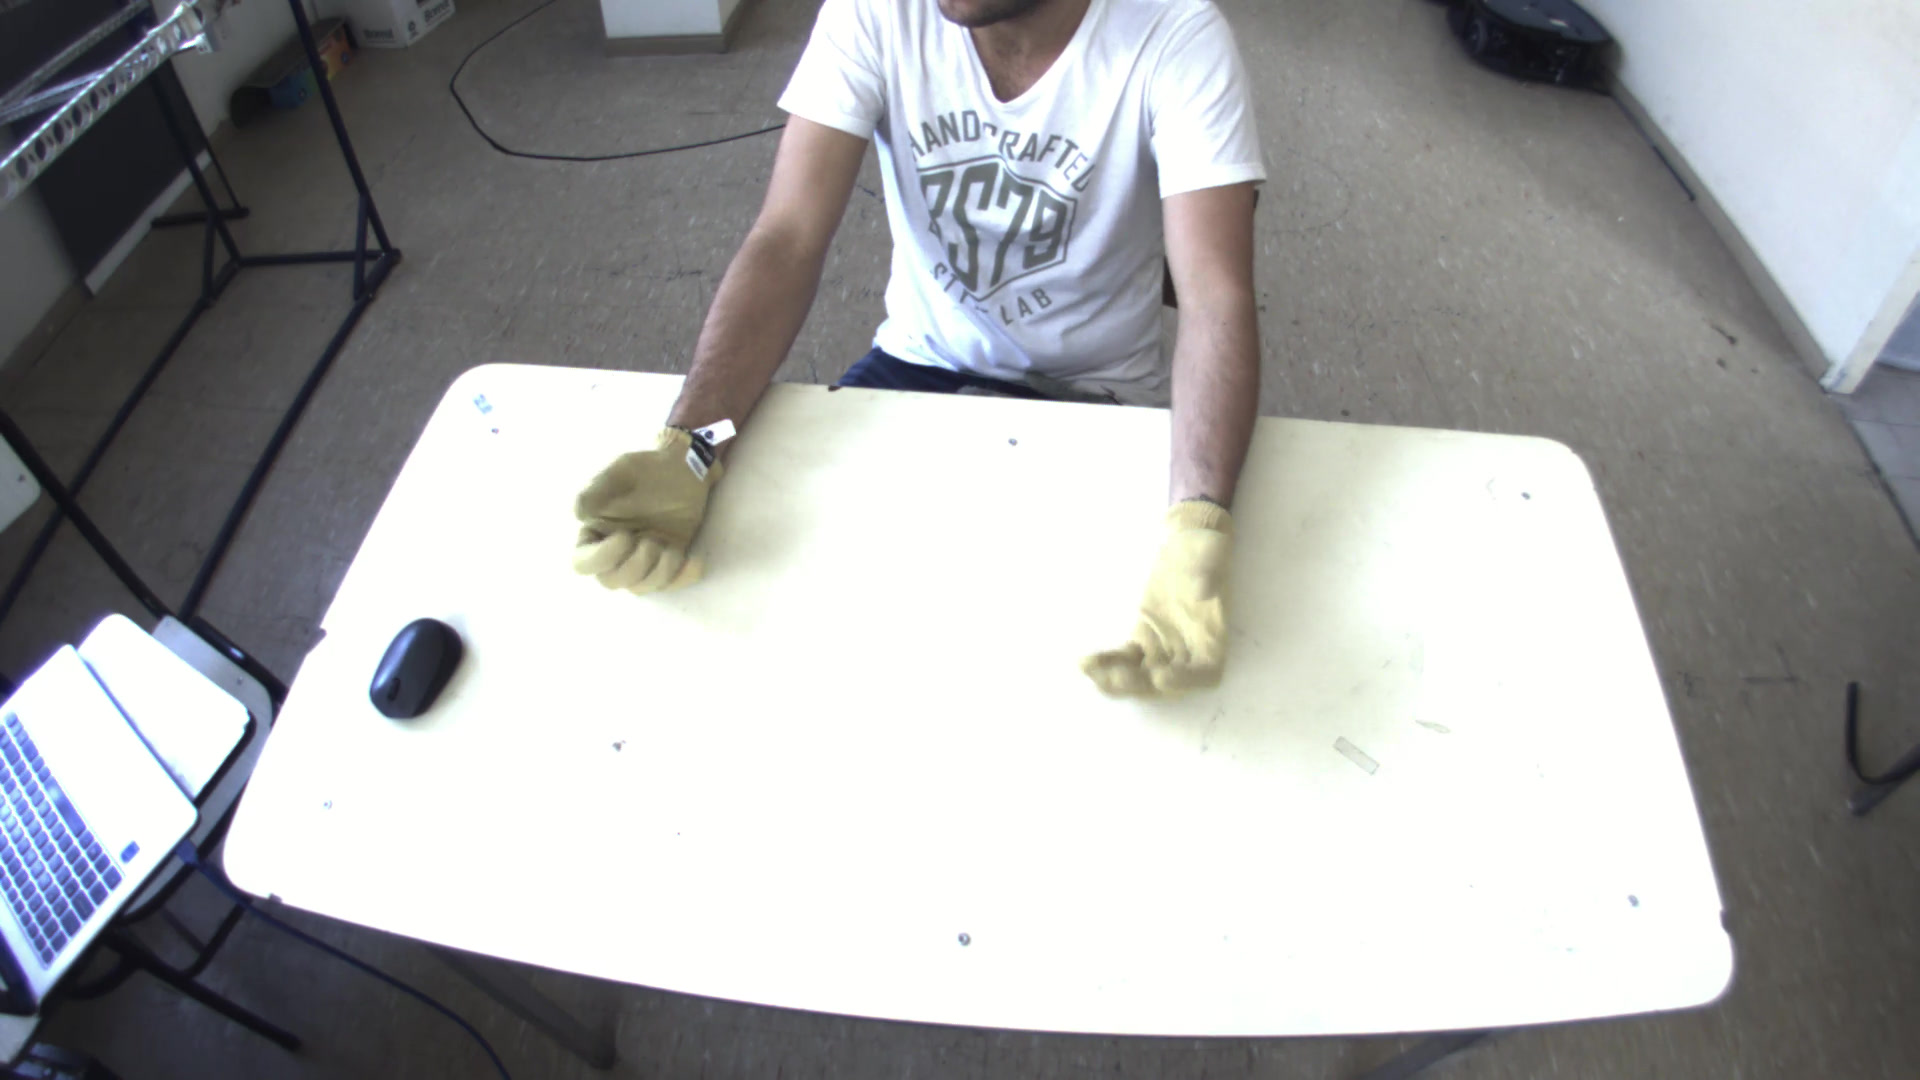hand: (1095, 493, 1258, 696), (558, 414, 728, 603)
